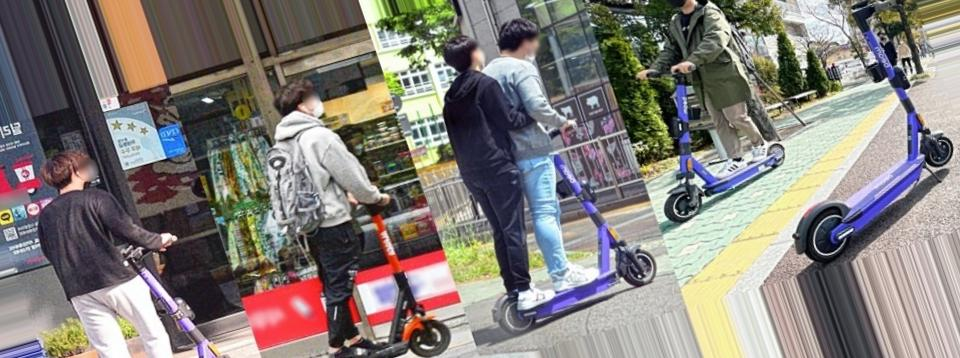scooter: (793, 1, 954, 265), (490, 120, 658, 338), (641, 64, 788, 222), (318, 186, 450, 358)
